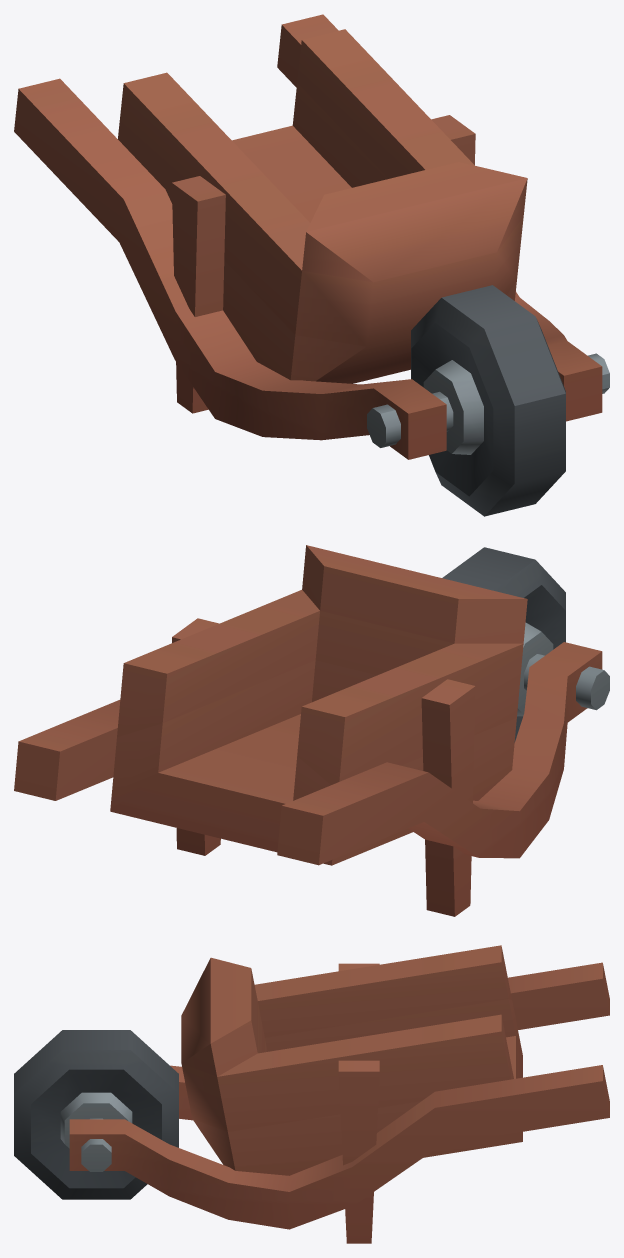
The model's file is wheelbarrow.glb.
3 views of the same model, one above another, from view 1: azimuth 30°, elevation 25°; view 2: azimuth 150°, elevation 25°; view 3: azimuth 270°, elevation 25° (orthographic). The views are drawn at different scales.
Parts seen in each view (by area): view 1: wheelbarrow; view 2: wheelbarrow; view 3: wheelbarrow.
Boxes of the visible parts, x1=… form: wheelbarrow: x1=14, y1=14, x2=609, y2=516; wheelbarrow: x1=14, y1=545, x2=609, y2=916; wheelbarrow: x1=14, y1=945, x2=609, y2=1243.
Bounding box in the file's own units: 0.238 × 0.1884 × 0.5057.
Materials: 1 (1 with a texture image).
